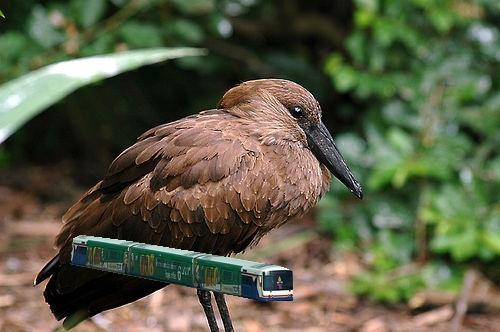tampered: (71, 236, 293, 301)
